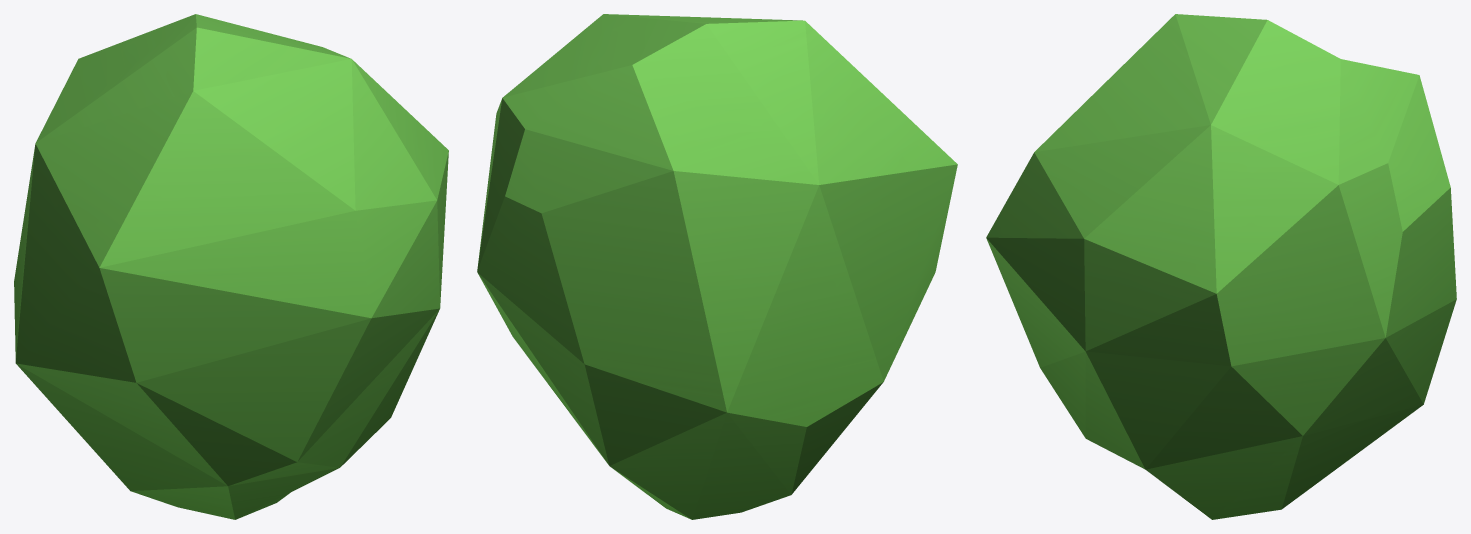
Rendered from bush_ball_green.fbx.
3 renders of one model, left to right at view 1: azimuth 30°, elevation 25°; view 2: azimuth 150°, elevation 25°; view 3: azimuth 270°, elevation 25°, orthographic. The views are drawn at different scales.
Visible parts, largest first — view 1: bush_ball_green; view 2: bush_ball_green; view 3: bush_ball_green.
Part boxes in pixels (left/top/right/bottom): bush_ball_green: left=14, top=14, right=448, bottom=519; bush_ball_green: left=477, top=14, right=957, bottom=519; bush_ball_green: left=986, top=14, right=1456, bottom=519.
Bounding box in the file's own units: 0.9 × 1 × 0.9.
Materials: 1 (1 with a texture image).
